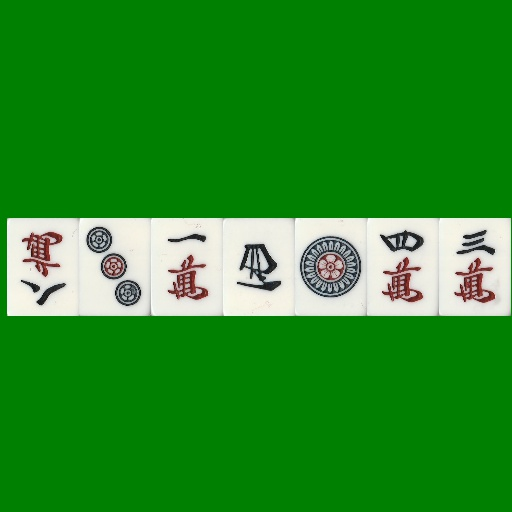1m: (151, 218, 223, 316)
1p: (295, 218, 367, 316)
3m: (439, 218, 511, 316)
3p: (79, 218, 151, 316)
4m: (367, 218, 439, 316)
8m: (7, 218, 79, 316)
west: (223, 218, 295, 316)
